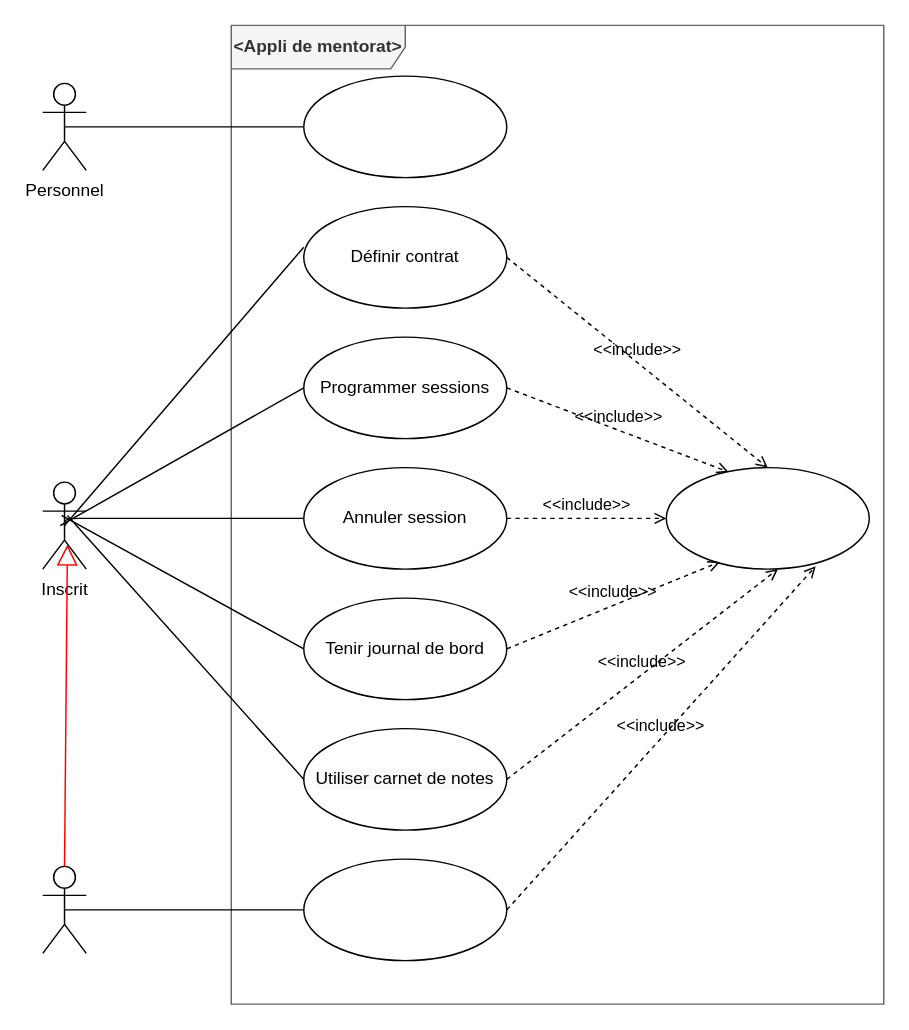
This 909x1030 diagram has some shape labels left out. Here are the shapes that lost their labels. From the top down, the centre of each, then its label:
the point at 404,126: S'inscrire
the point at 767,517: Se connecter
the point at 63,909: Admin
the point at 404,909: Afficher les métriques
